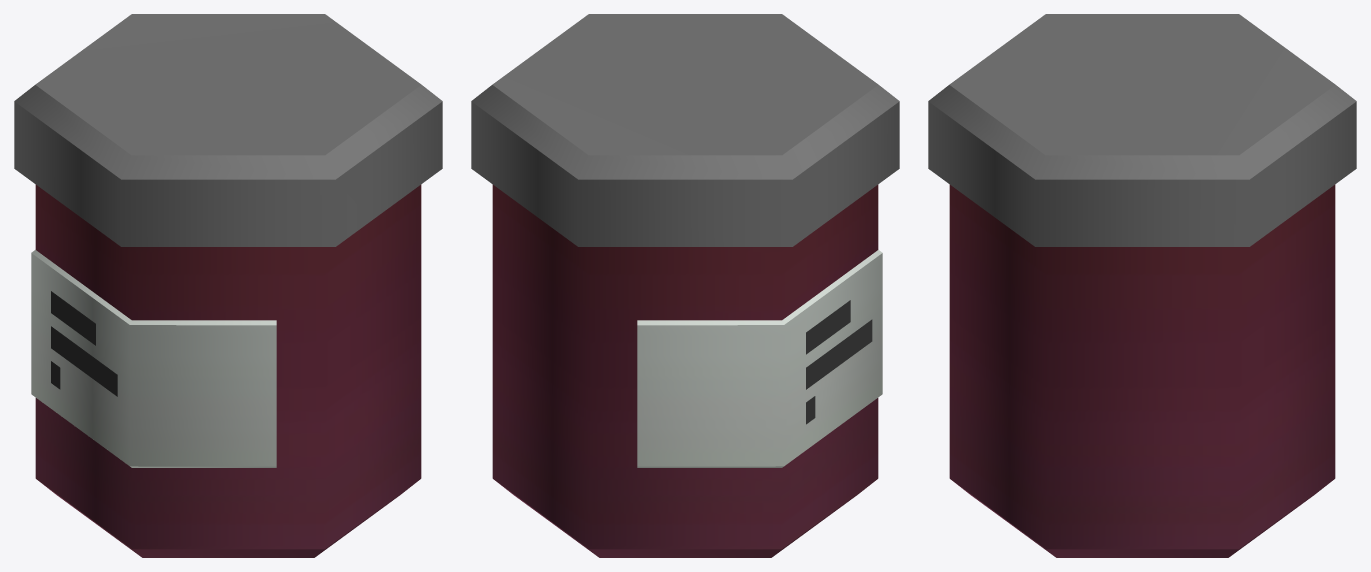
The model's file is Jar_1_C.fbx.
3 renders of one model, left to right at view 1: azimuth 30°, elevation 25°; view 2: azimuth 150°, elevation 25°; view 3: azimuth 270°, elevation 25°, orthographic.
Parts seen in each view (by area): view 1: Jar_1_C; view 2: Jar_1_C; view 3: Jar_1_C.
Boxes of the visible parts, x1,y1,x2,y2 form: Jar_1_C: [14, 14, 442, 557]; Jar_1_C: [471, 14, 899, 557]; Jar_1_C: [928, 14, 1356, 557].
Size of the model in its own units: 17.99 by 21.94 by 20.77.
